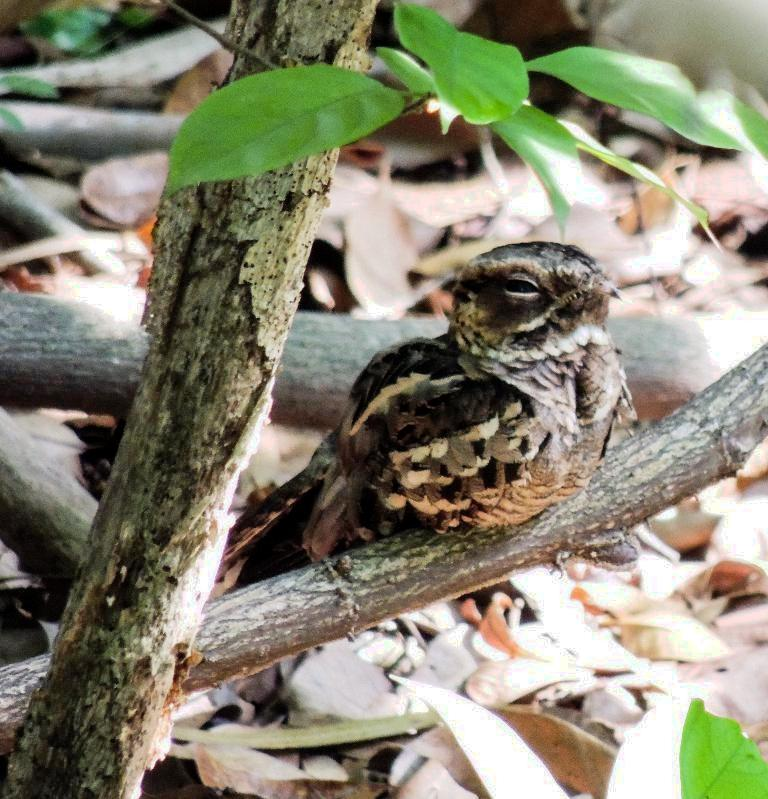Owl: (227, 237, 645, 585)
